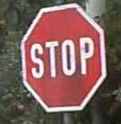stop: (19, 2, 105, 112)
